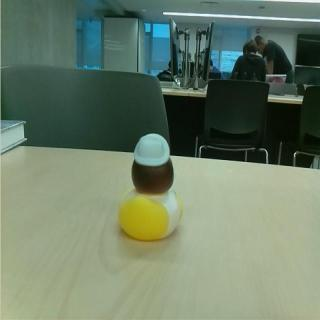duck_specialty: (118, 132, 186, 243)
